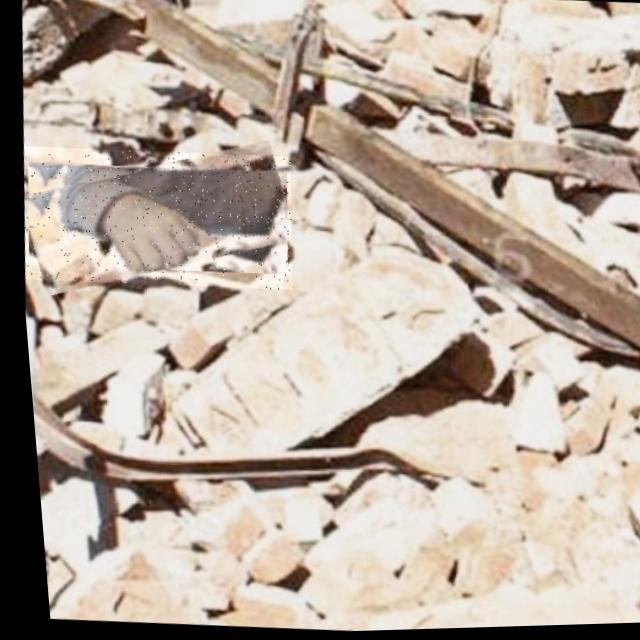Person in Rubble: (11, 140, 296, 297)
